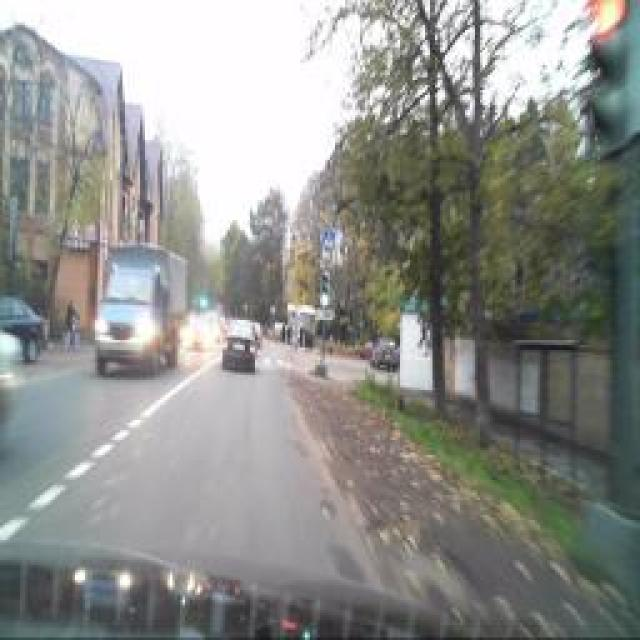sign: (324, 230, 334, 250)
